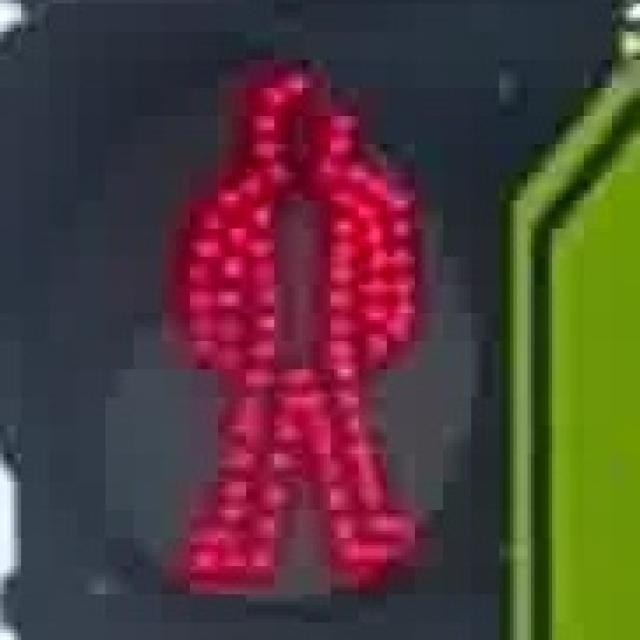red-crossing: (133, 45, 430, 588)
